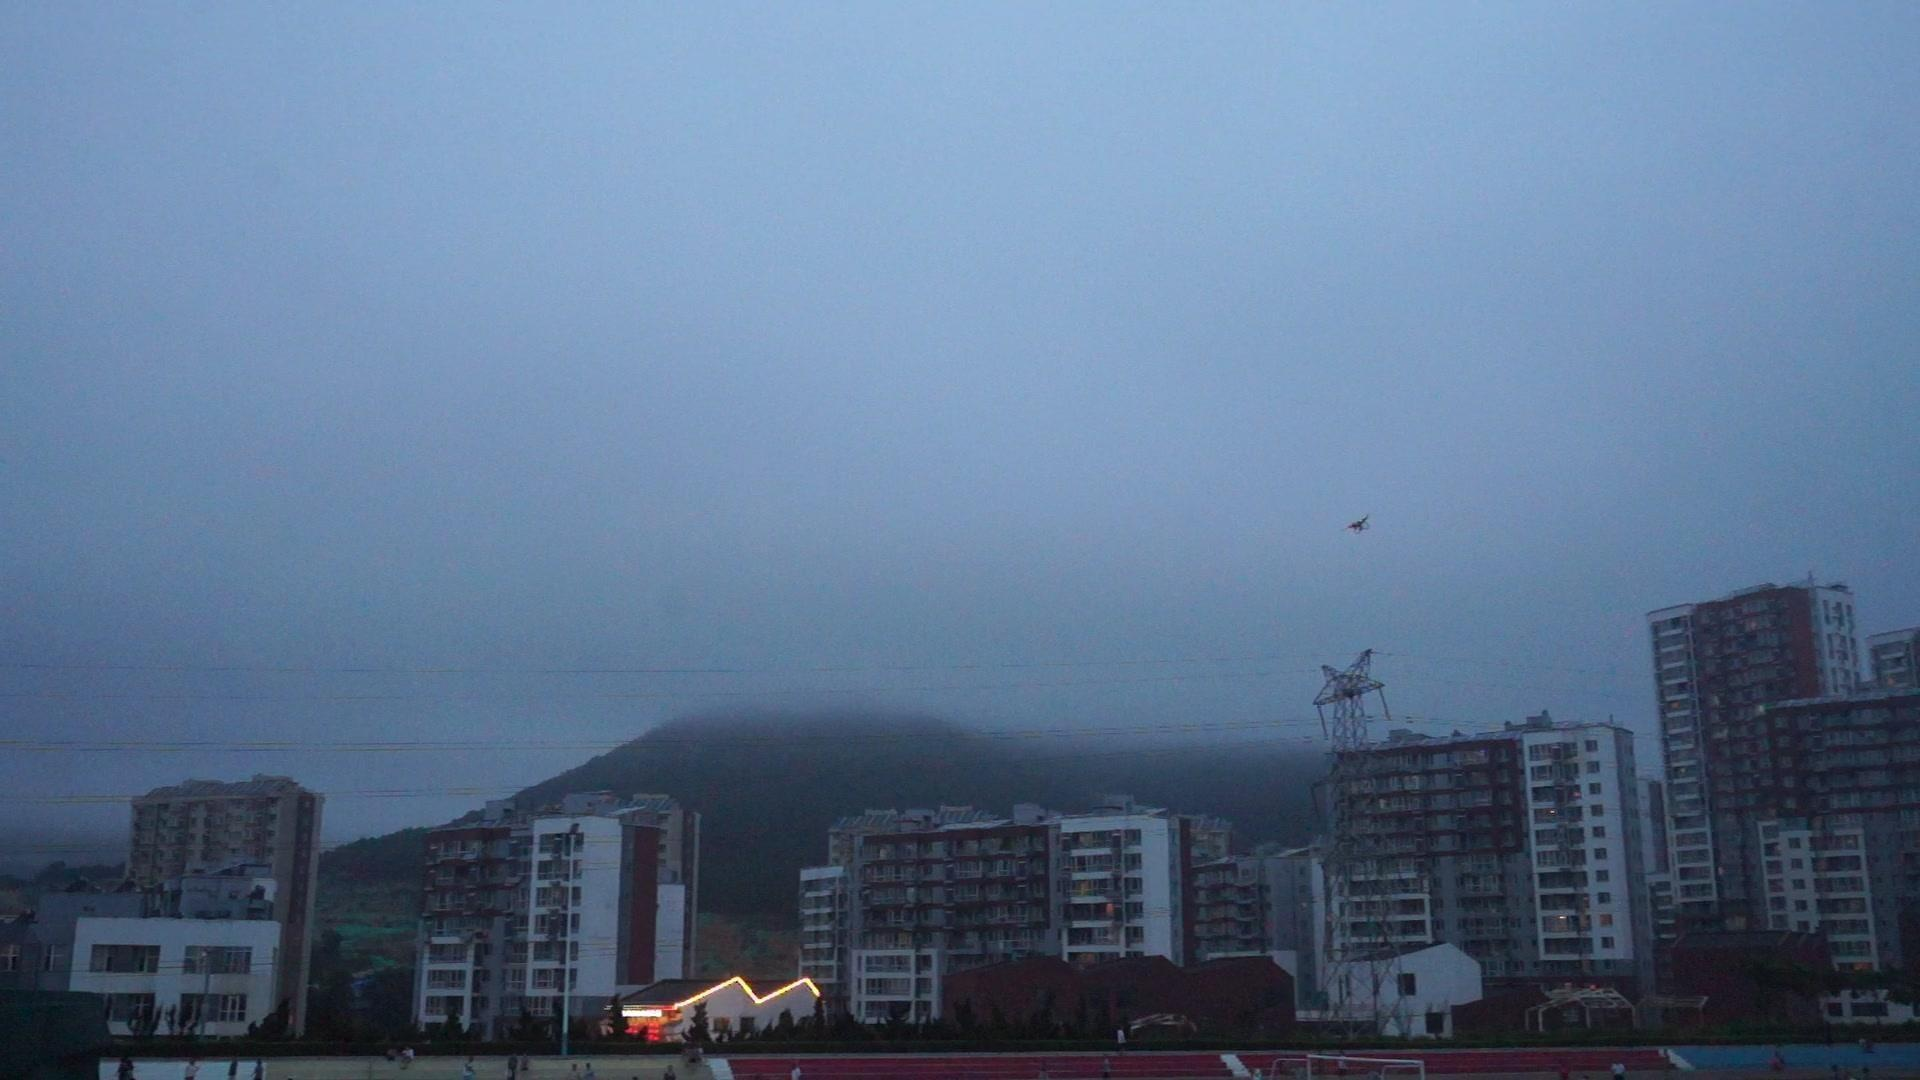UAV: (1342, 514, 1371, 535)
